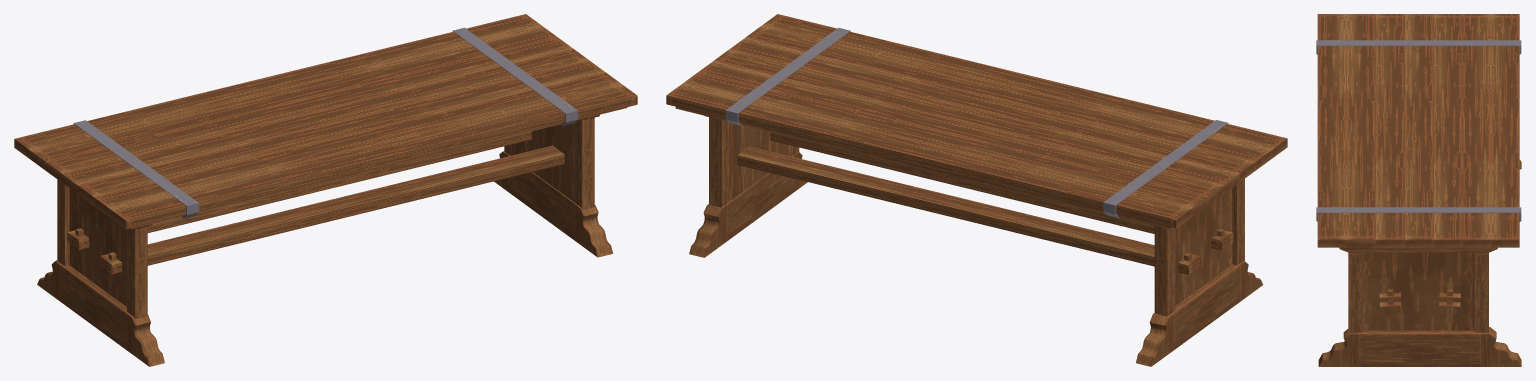
Rendered from Table_Large.fbx.
3 views of the same model, side by side, from view 1: azimuth 30°, elevation 25°; view 2: azimuth 150°, elevation 25°; view 3: azimuth 270°, elevation 25° (orthographic). The views are drawn at different scales.
Visible parts, largest first — view 1: Table_Large; view 2: Table_Large; view 3: Table_Large.
Part boxes in pixels (bbox=[...]): Table_Large: bbox=[14, 14, 637, 366]; Table_Large: bbox=[666, 14, 1287, 366]; Table_Large: bbox=[1316, 14, 1521, 366].
Size of the model in its own units: 285 by 81.34 by 110.
